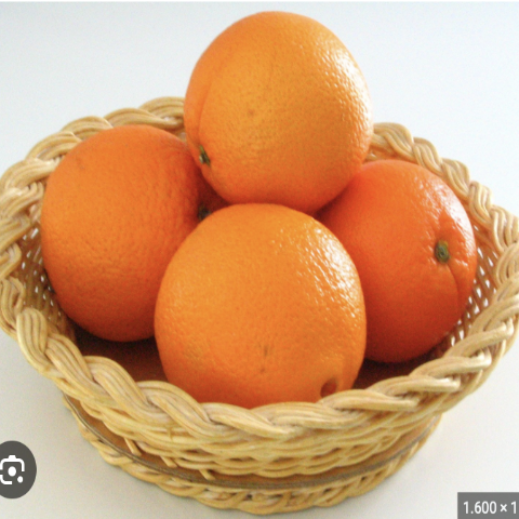orange: (148, 181, 382, 440), (18, 119, 222, 336), (171, 0, 373, 198), (308, 150, 494, 332)
